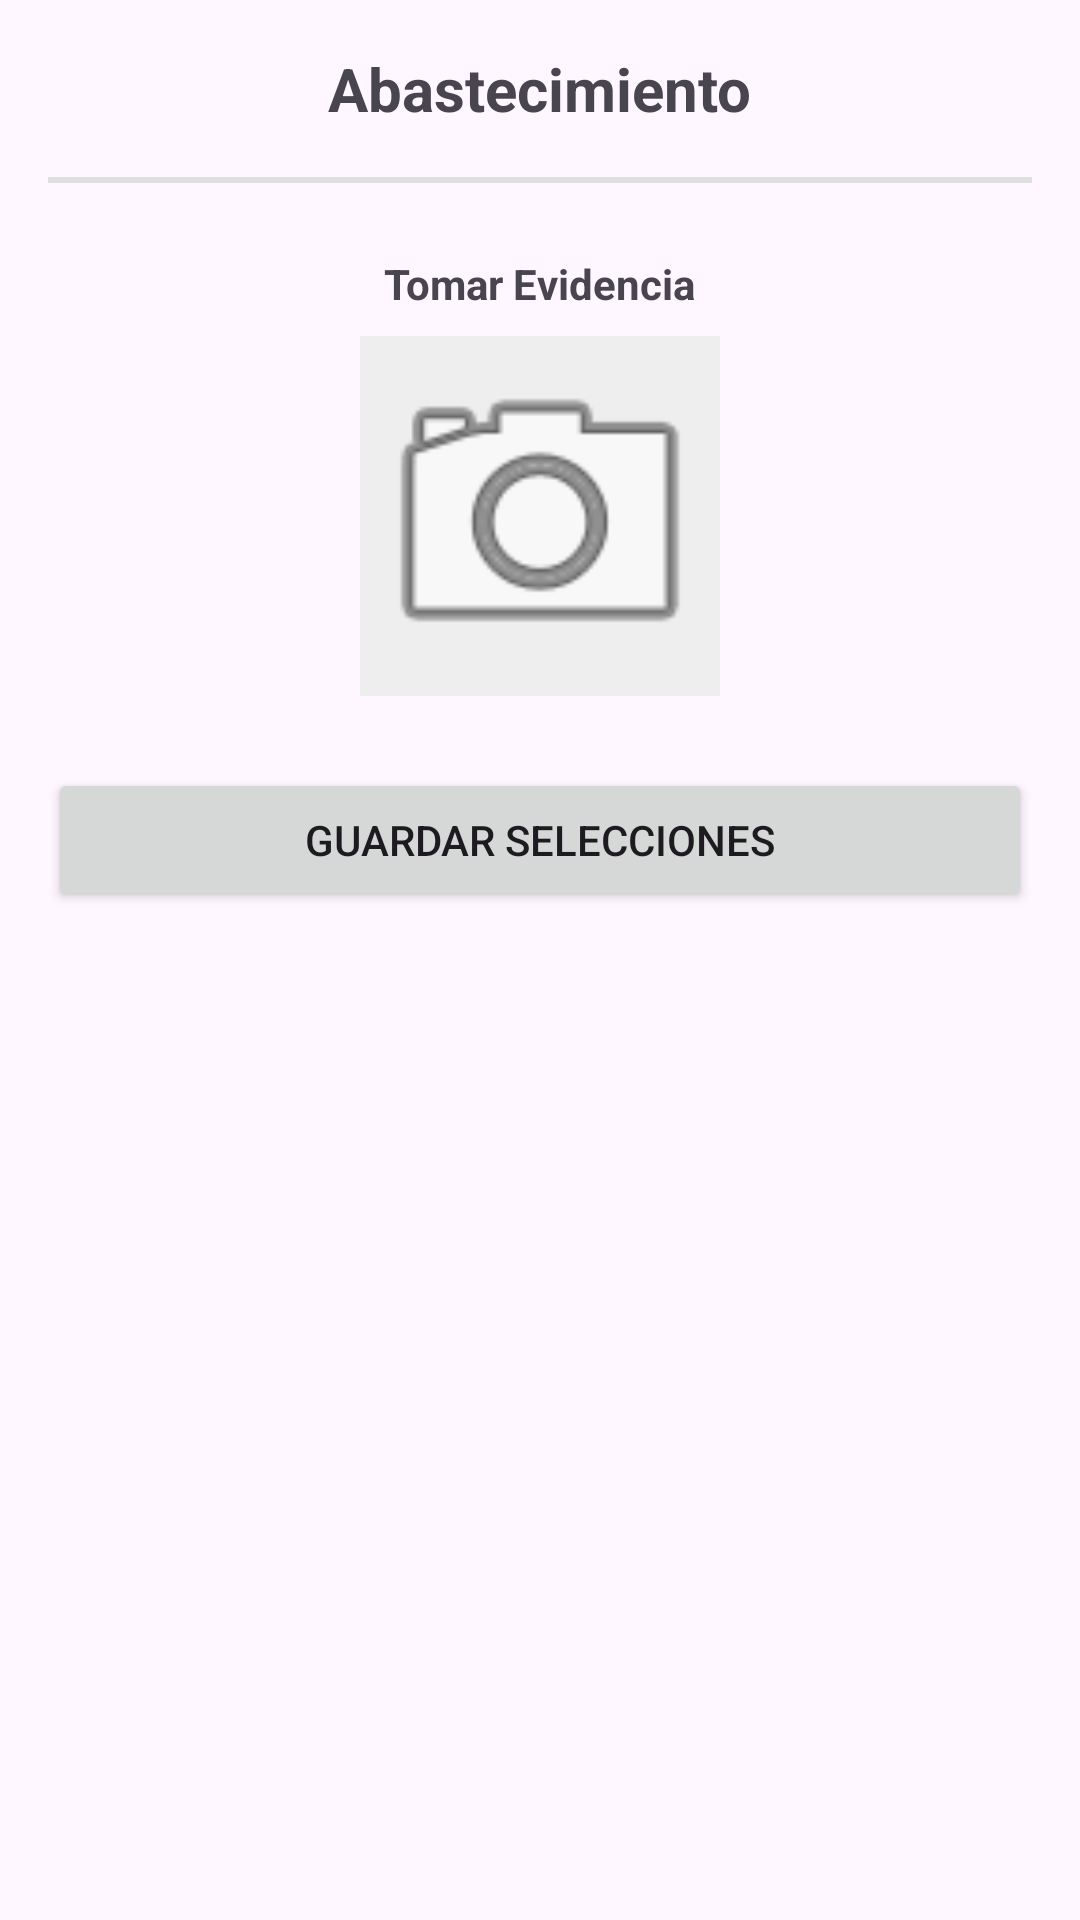

Screen size 1080×1920. Icon name, then its center in pixels as point (x, y):
camera: point (540, 516)
